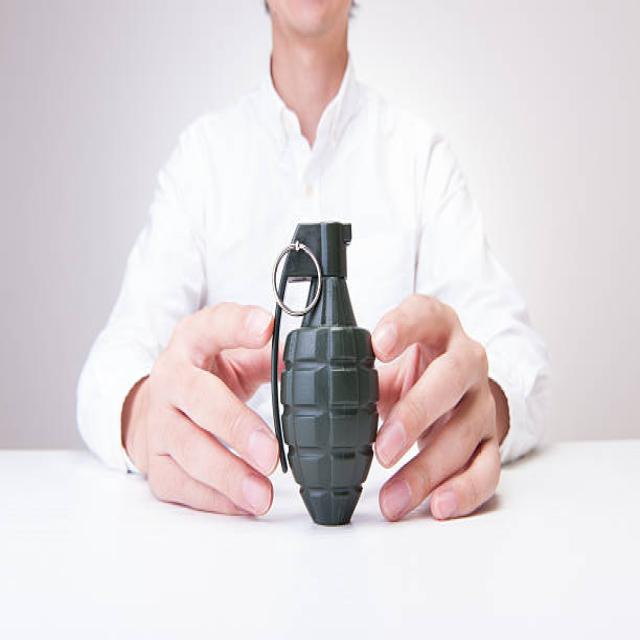grenade: (265, 215, 382, 528)
